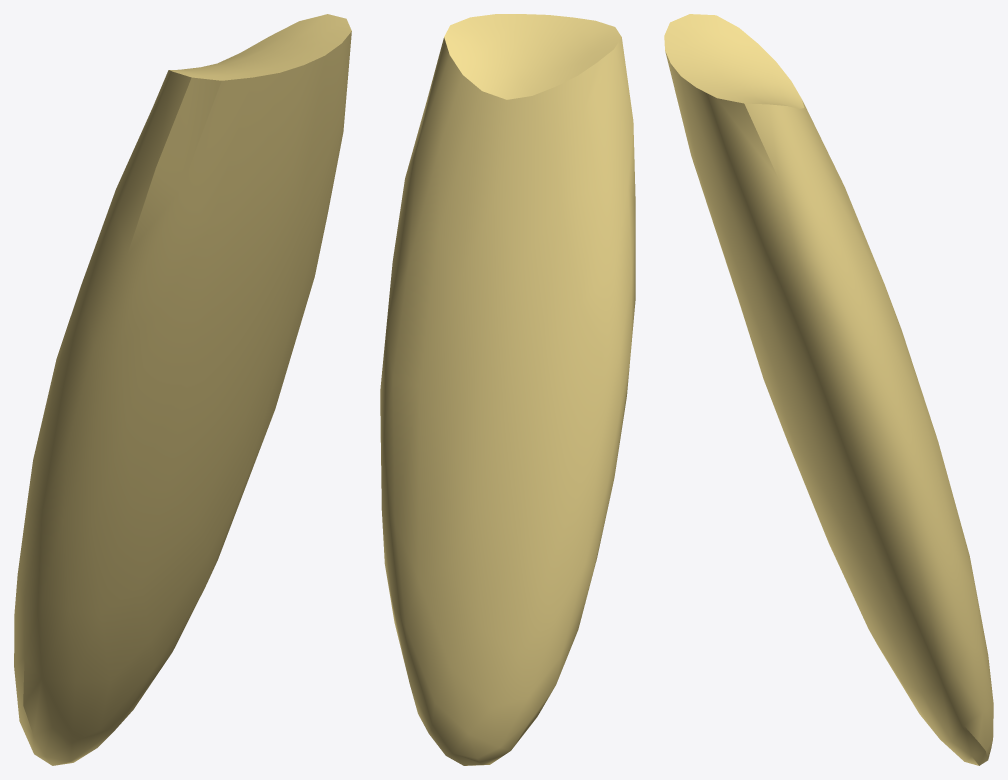
File: fma73777_mm3504.glb
3 renders of one model, left to right at view 1: azimuth 30°, elevation 25°; view 2: azimuth 150°, elevation 25°; view 3: azimuth 270°, elevation 25°, orthographic. The views are drawn at different scales.
Visible parts, largest first — view 1: FMA73777_MM3504; view 2: FMA73777_MM3504; view 3: FMA73777_MM3504.
Part boxes in pixels (bbox=[...]): FMA73777_MM3504: bbox=[14, 14, 351, 765]; FMA73777_MM3504: bbox=[380, 14, 635, 765]; FMA73777_MM3504: bbox=[664, 14, 993, 765].
Size of the model in its own units: 0.00243 by 0.00677 by 0.00276.
